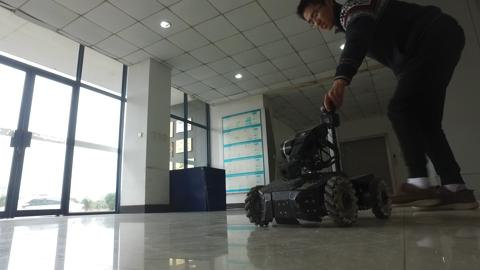chariot: (238, 108, 394, 231)
